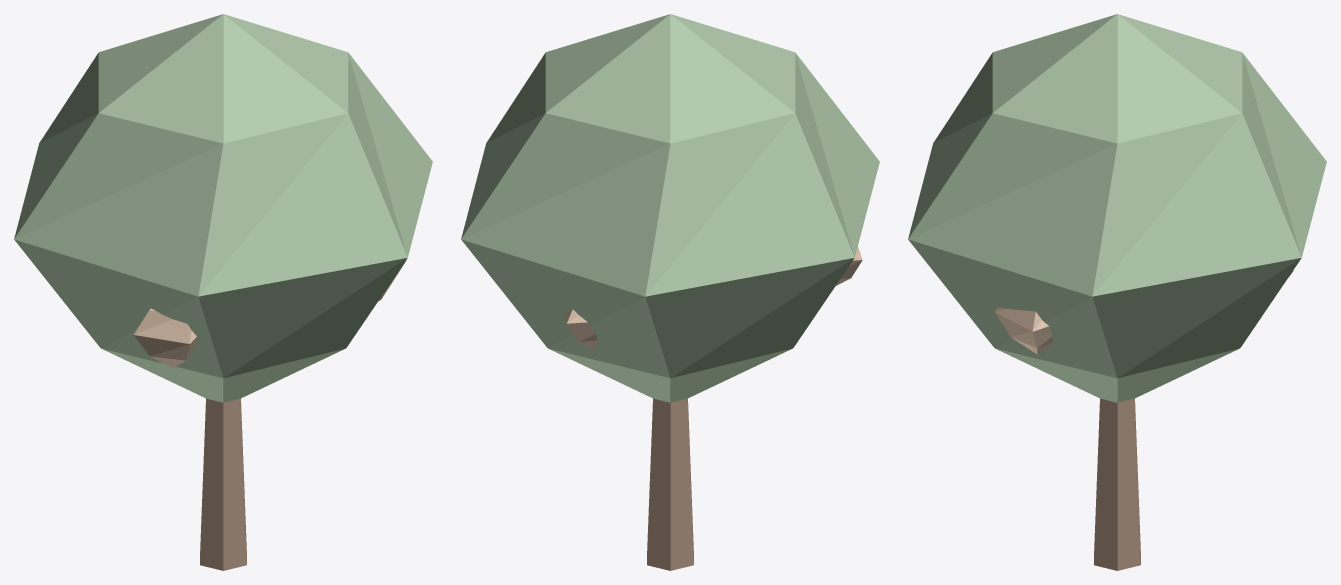
The model's file is tree-orchard.glb.
The picture shows the model from 3 angles, left to right: view 1: azimuth 30°, elevation 25°; view 2: azimuth 150°, elevation 25°; view 3: azimuth 270°, elevation 25°; orthographic projection.
Parts seen in each view (by area): view 1: tree-orchard; view 2: tree-orchard; view 3: tree-orchard.
Part boxes in pixels (left/top/right/bottom): tree-orchard: left=14, top=14, right=432, bottom=570; tree-orchard: left=461, top=14, right=879, bottom=570; tree-orchard: left=908, top=14, right=1326, bottom=570.
Bounding box in the file's own units: 3.4 × 4.5 × 3.13.
